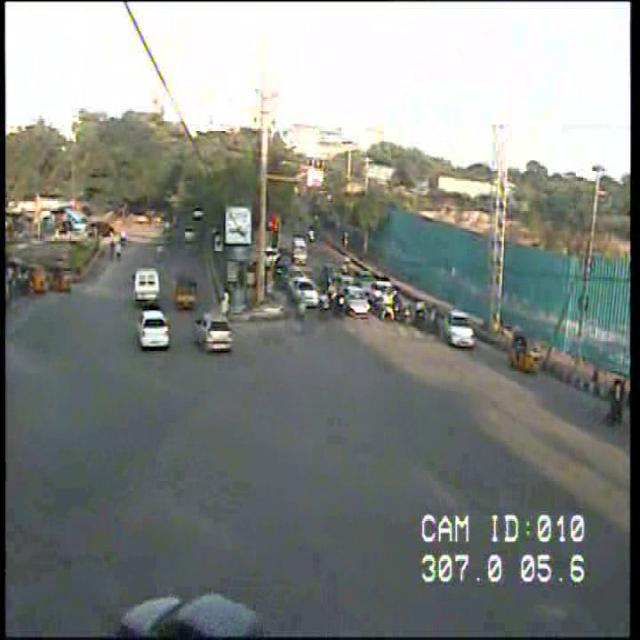noaccident: (122, 158, 597, 485)
